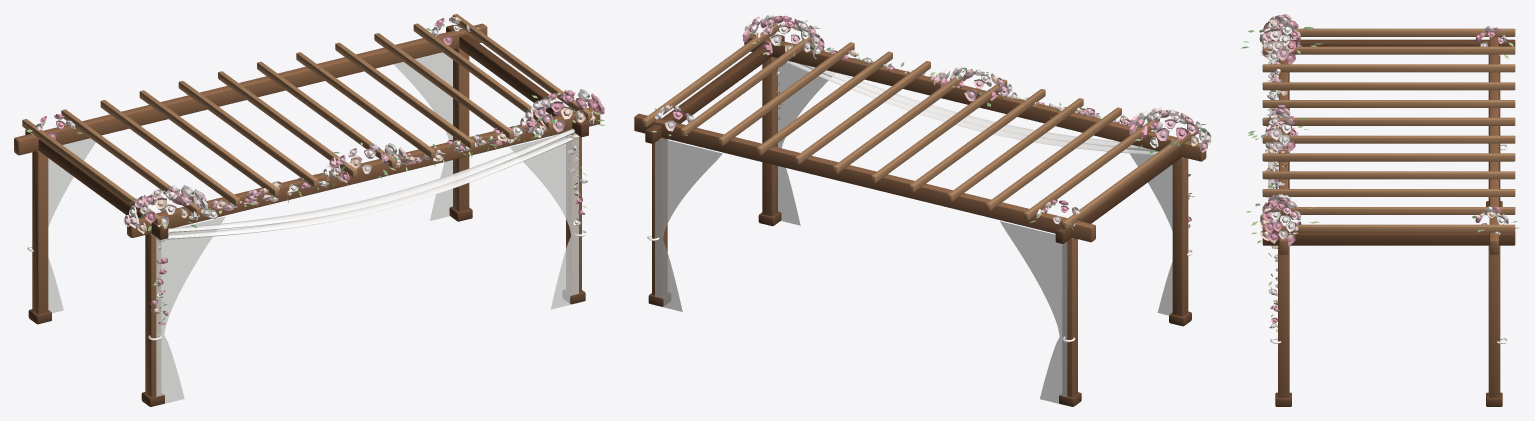
File: pergola.glb
The picture shows the model from 3 angles, left to right: view 1: azimuth 30°, elevation 25°; view 2: azimuth 150°, elevation 25°; view 3: azimuth 270°, elevation 25°; orthographic projection. The views are drawn at different scales.
Visible parts, largest first — view 1: pergola; view 2: pergola; view 3: pergola.
Boxes of the visible parts, x1,y1,x2,y2 form: pergola: (14, 14, 605, 406); pergola: (634, 14, 1211, 406); pergola: (1241, 14, 1519, 406).
Bounding box in the file's own units: 9.69 × 4.14 × 5.32.
